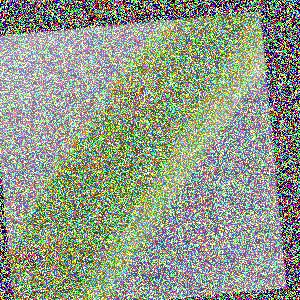Bacterial_Leaf_Blight: (8, 238, 53, 278), (116, 79, 151, 111)
